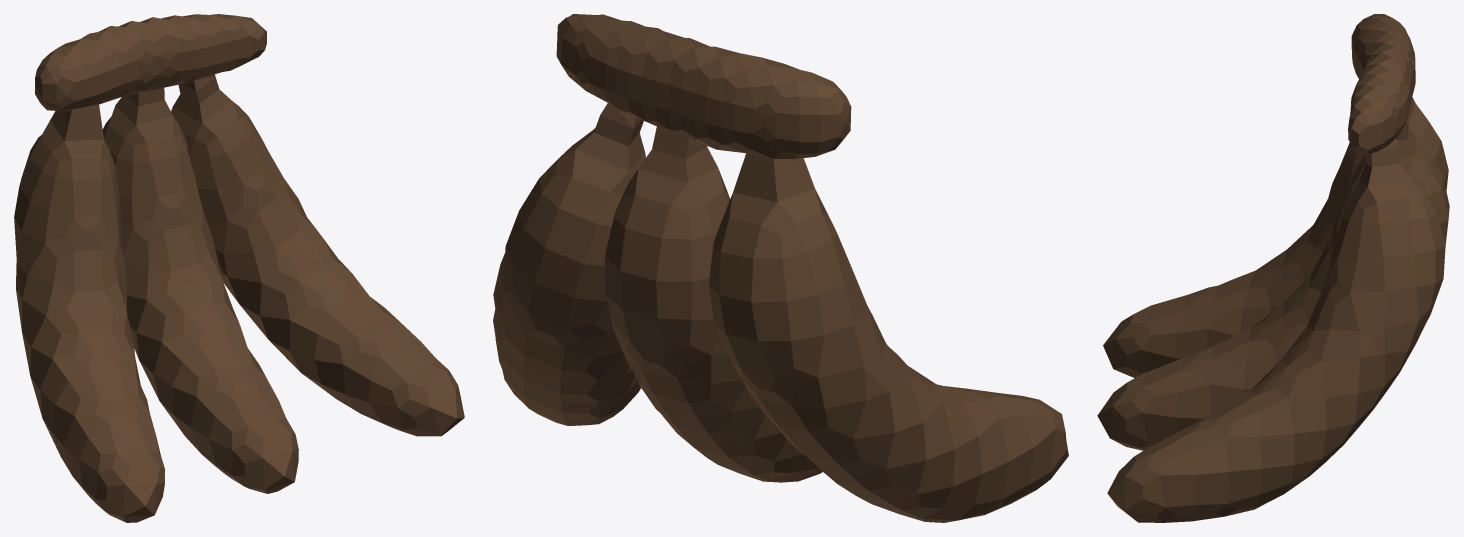
File: B_Juice.fbx
3 renders of one model, left to right at view 1: azimuth 30°, elevation 25°; view 2: azimuth 150°, elevation 25°; view 3: azimuth 270°, elevation 25°, orthographic. The views are drawn at different scales.
Parts seen in each view (by area): view 1: B_Juice; view 2: B_Juice; view 3: B_Juice.
Boxes of the visible parts, left/top/right/bottom form: B_Juice: left=14, top=14, right=464, bottom=522; B_Juice: left=493, top=14, right=1068, bottom=522; B_Juice: left=1097, top=14, right=1449, bottom=522.
Bounding box in the file's own units: 216 × 219 × 177.
